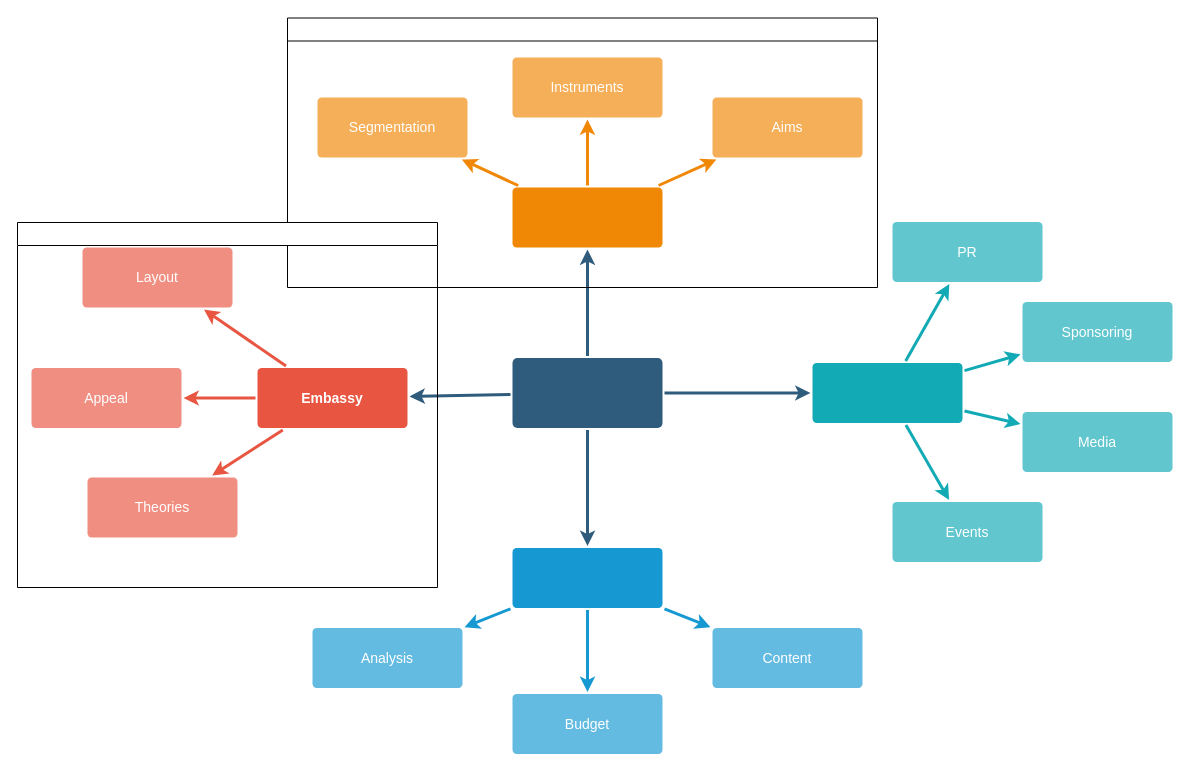
Some shapes in this 1190 by 771 pixel diagram are drawn without their labels. The box of each missing label's shape, as (x1, y1, x2, y2) in pixels:
Advertising: (512, 358, 662, 428)
Communication: (812, 362, 962, 422)
Container: (16, 222, 438, 588)
Marketing: (512, 187, 662, 247)
Organization: (512, 548, 662, 608)
Vertical Container: (286, 17, 878, 288)
